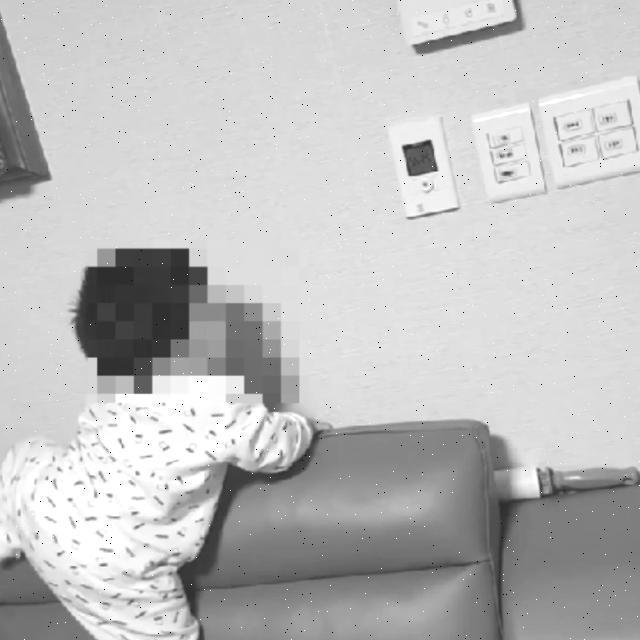child: (0, 245, 309, 640)
